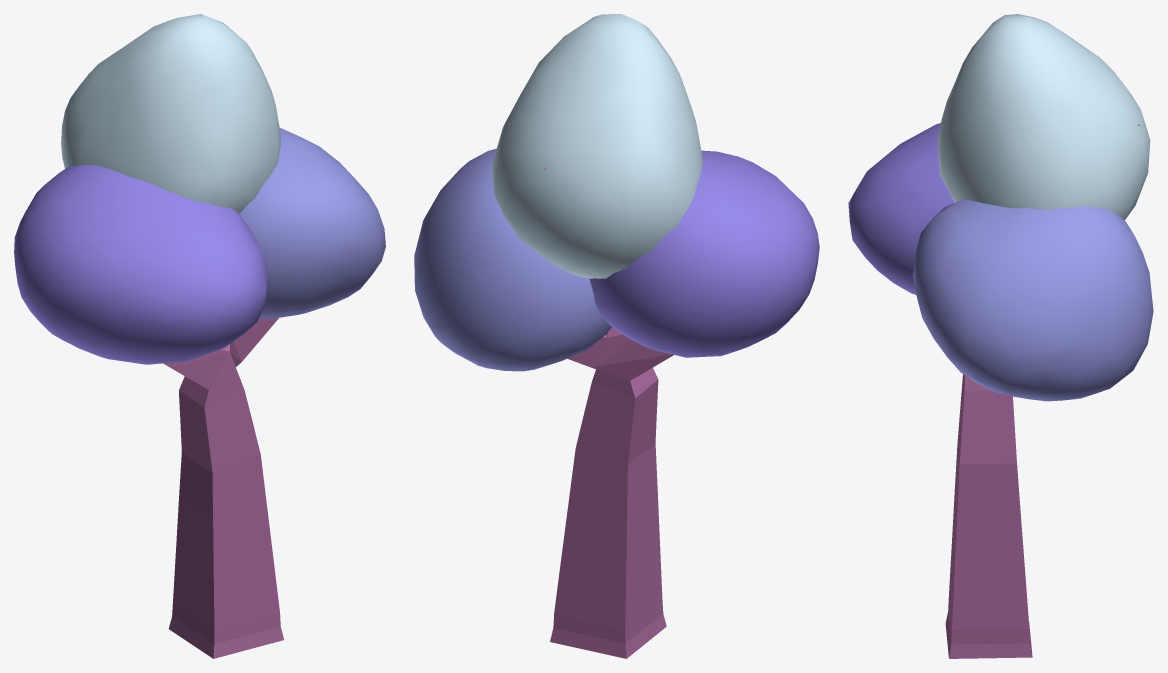
3 views of the same model, side by side, from view 1: azimuth 30°, elevation 25°; view 2: azimuth 150°, elevation 25°; view 3: azimuth 270°, elevation 25° (orthographic). The views are drawn at different scales.
Visible parts, largest first — view 1: Icosphere, Icosphere.001, Plane.012, Icosphere.002; view 2: Icosphere.001, Icosphere, Plane.012, Icosphere.002; view 3: Icosphere.002, Icosphere.001, Plane.012, Icosphere.
Part boxes in pixels (x1,y1,x2,y2): Icosphere: (14,165,267,364); Icosphere.001: (61,14,280,213); Plane.012: (163,318,283,658); Icosphere.002: (240,127,385,319); Icosphere.001: (492,14,703,278); Icosphere: (589,150,819,357); Plane.012: (543,166,673,658); Icosphere.002: (414,148,611,371); Icosphere.002: (913,199,1153,401); Icosphere.001: (937,14,1150,220); Plane.012: (945,124,1139,658); Icosphere: (848,123,954,294).
Bounding box in the file's own units: 159 × 266 × 120.
